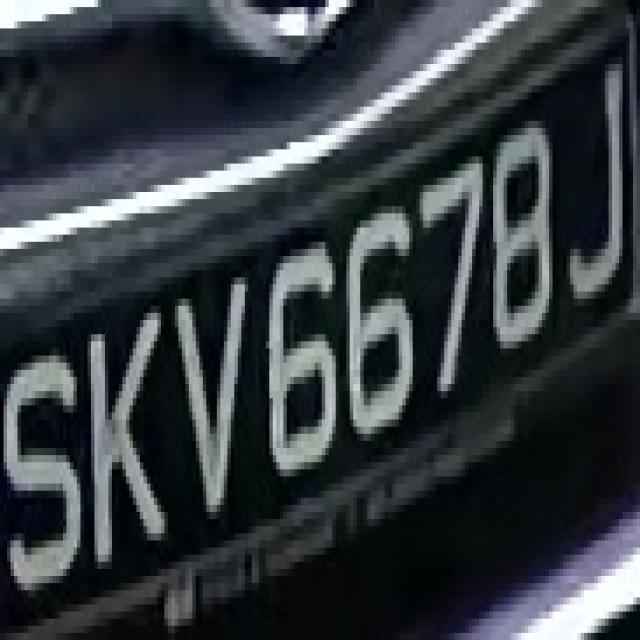6: (336, 185, 423, 448), (266, 221, 343, 484)
7: (412, 142, 490, 406)
8: (483, 106, 563, 370)
J: (560, 43, 636, 313)
K: (87, 284, 168, 569)
S: (3, 334, 102, 604)
V: (168, 242, 255, 548)
